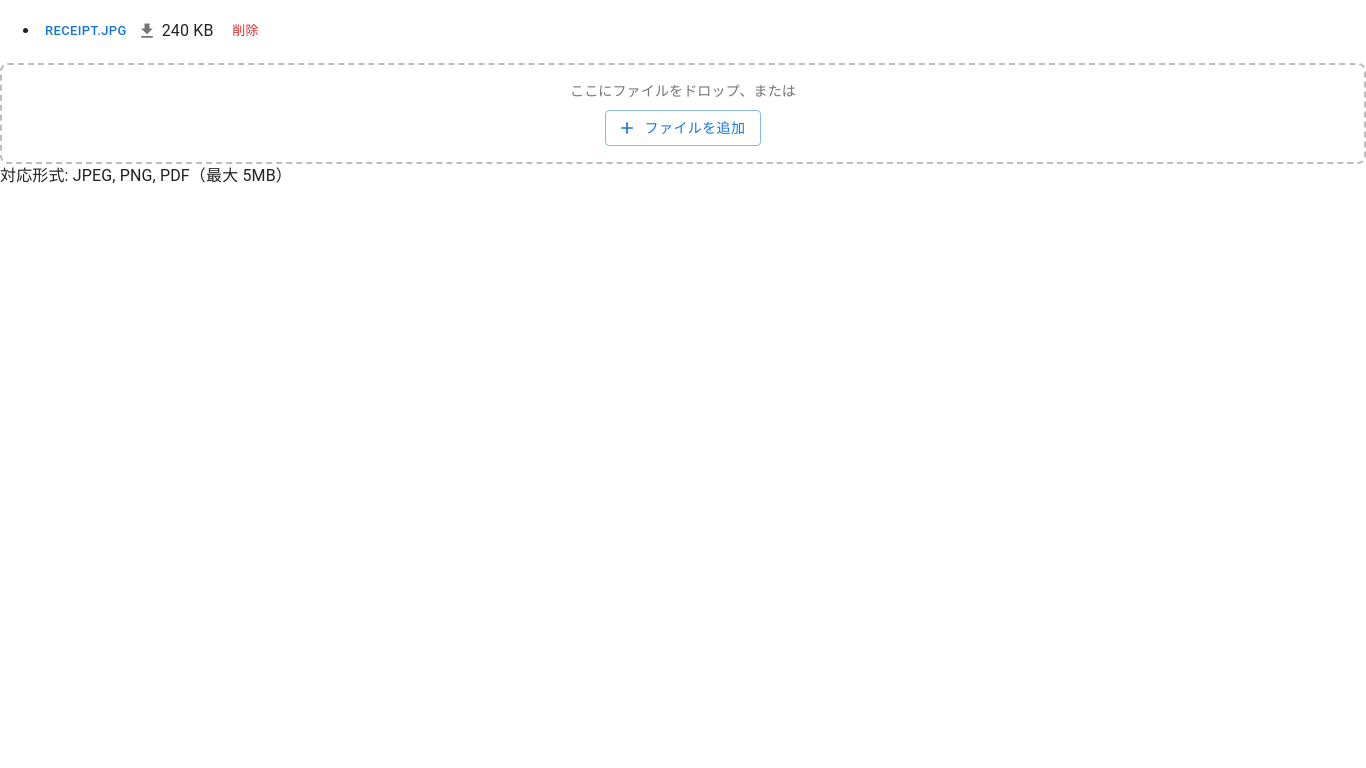
Test: AttachmentArea › ATT-FE-055: ダイアログでキャンセルを押すと削除 API が呼ばれない
# 削除ボタンをクリックしてダイアログを表示する
Click the button with test id "attachment-delete-att-001". click: (246, 31)
box: top-left (214, 16), bottom-right (278, 47)
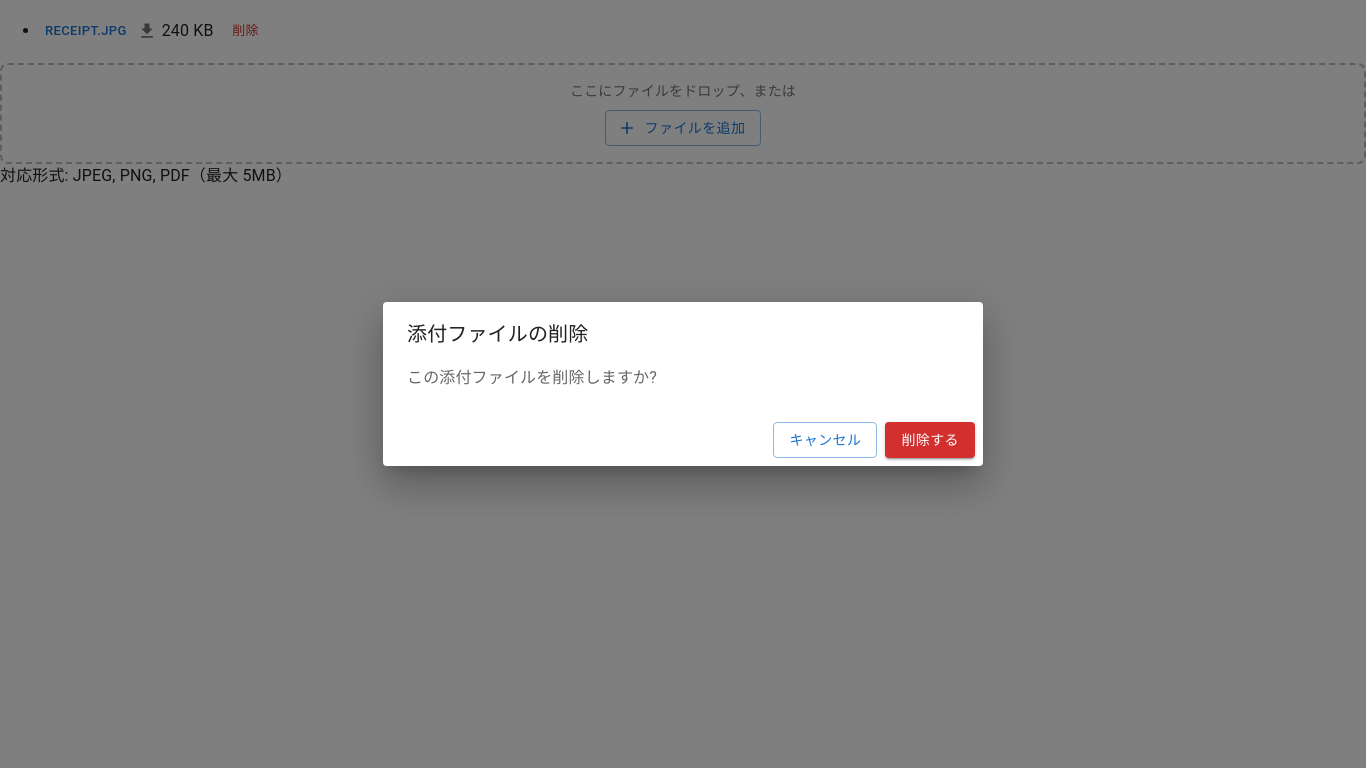
Expected: the dialog is shown, top-left (383, 302), bottom-right (983, 466)
# 「キャンセル」ボタンをクリックする
Click the button "キャンセル". click: (825, 440)
box: top-left (773, 422), bottom-right (877, 458)
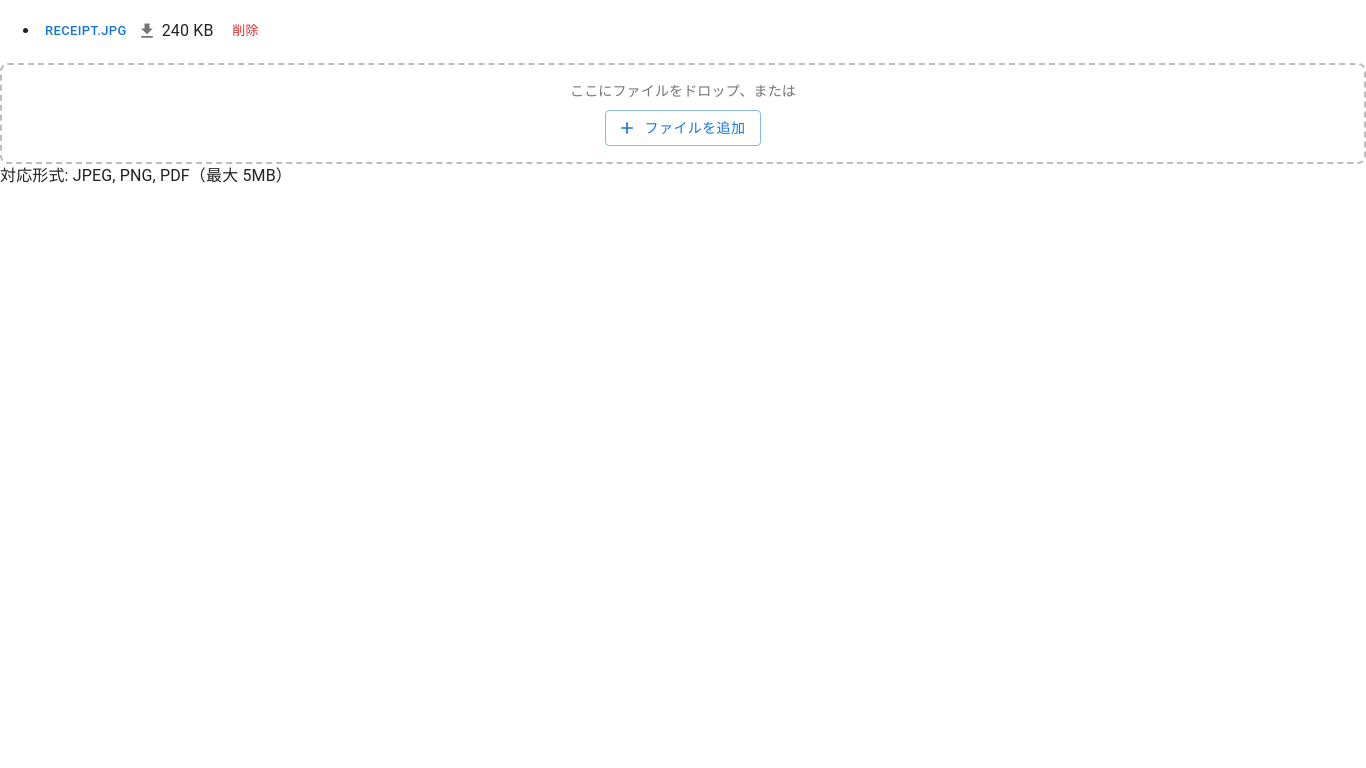
Expected: the dialog is gone
